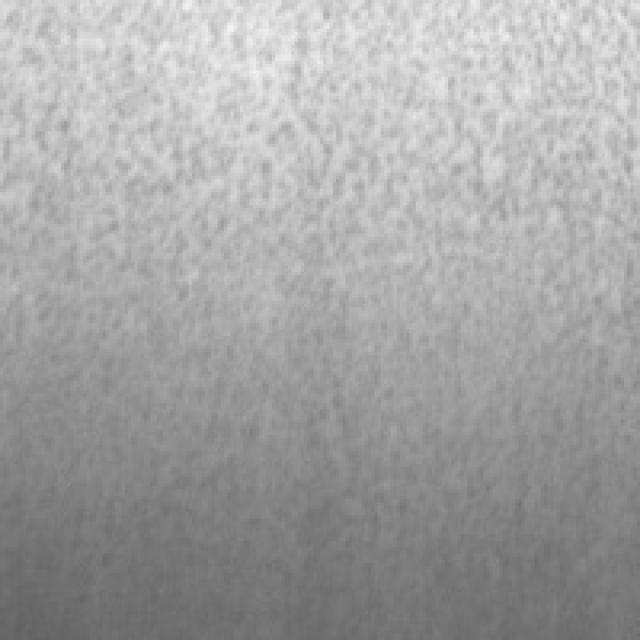pitted_surface: (9, 0, 634, 368)
